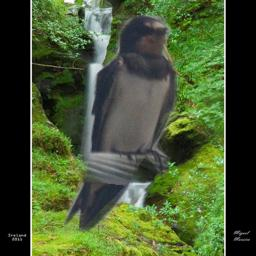Swallow: (63, 15, 178, 232)
